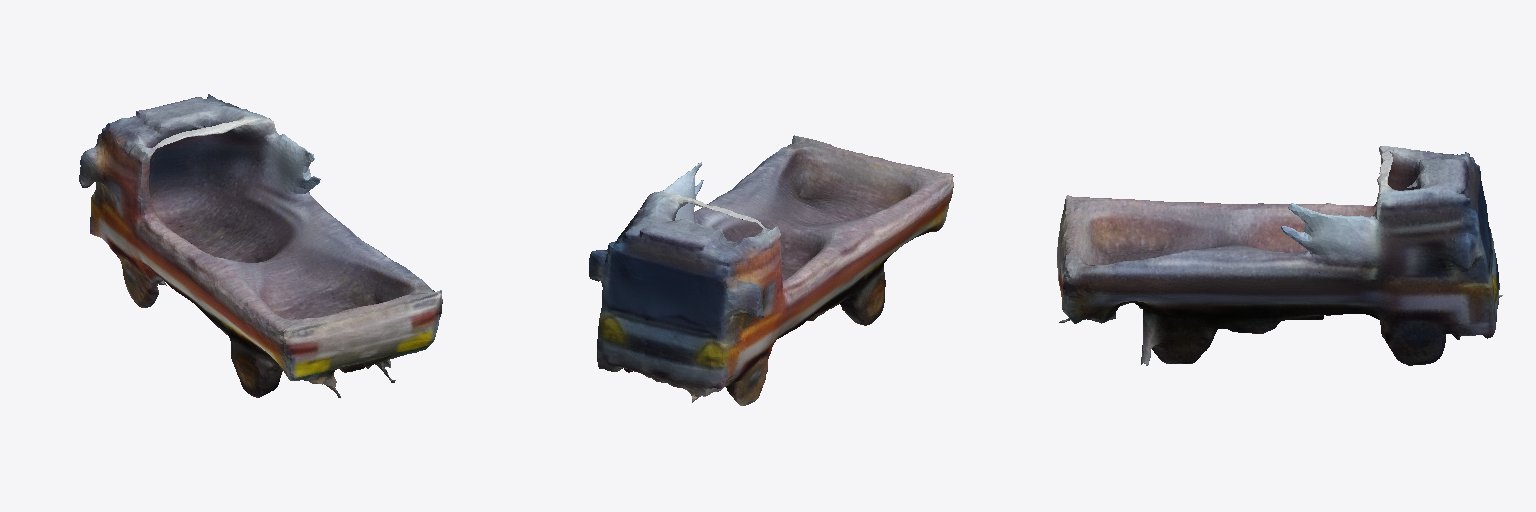
The picture shows the model from 3 angles: view 1: azimuth 30°, elevation 25°; view 2: azimuth 150°, elevation 25°; view 3: azimuth 270°, elevation 25°; orthographic projection.
Bounding box in the file's own units: 0.4493 × 0.4455 × 1.02.
Materials: 1 (1 with a texture image).